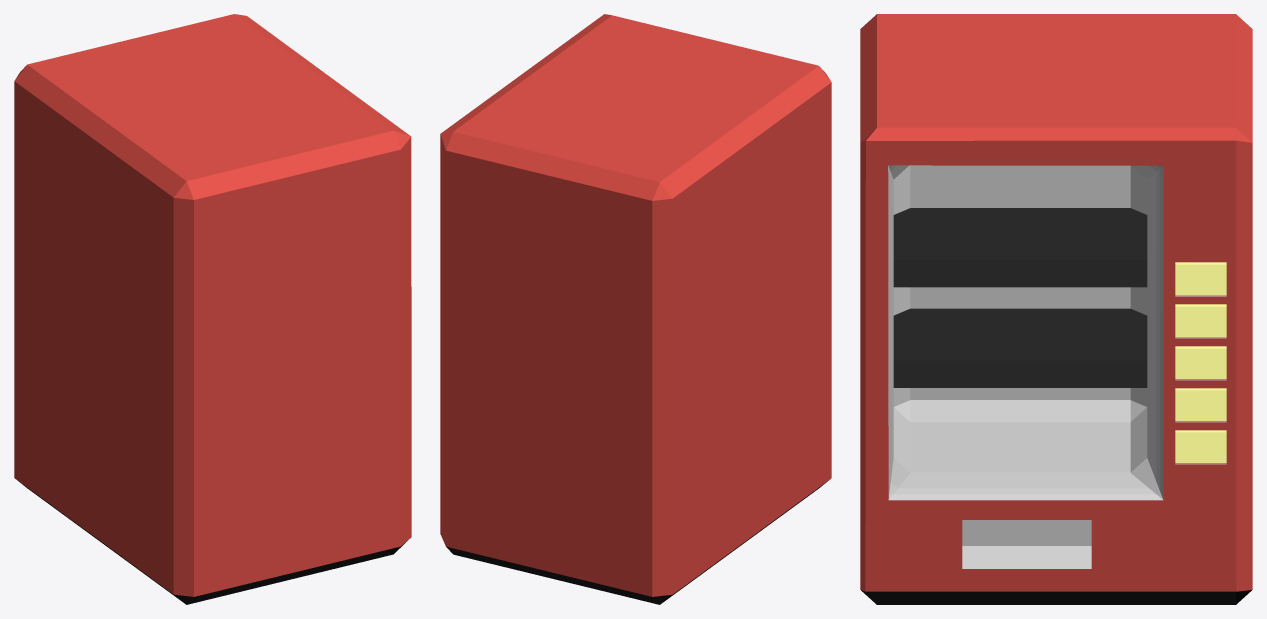
Rendered from vending_machine.glb.
3 renders of one model, left to right at view 1: azimuth 30°, elevation 25°; view 2: azimuth 150°, elevation 25°; view 3: azimuth 270°, elevation 25°, orthographic. The views are drawn at different scales.
Parts seen in each view (by area): view 1: vending maching; view 2: vending maching; view 3: vending maching.
Part boxes in pixels (left/top/right/bottom): vending maching: left=14, top=14, right=411, bottom=604; vending maching: left=440, top=14, right=831, bottom=604; vending maching: left=860, top=14, right=1252, bottom=604.
Bounding box in the file's own units: 1.14 × 1.95 × 1.45.
